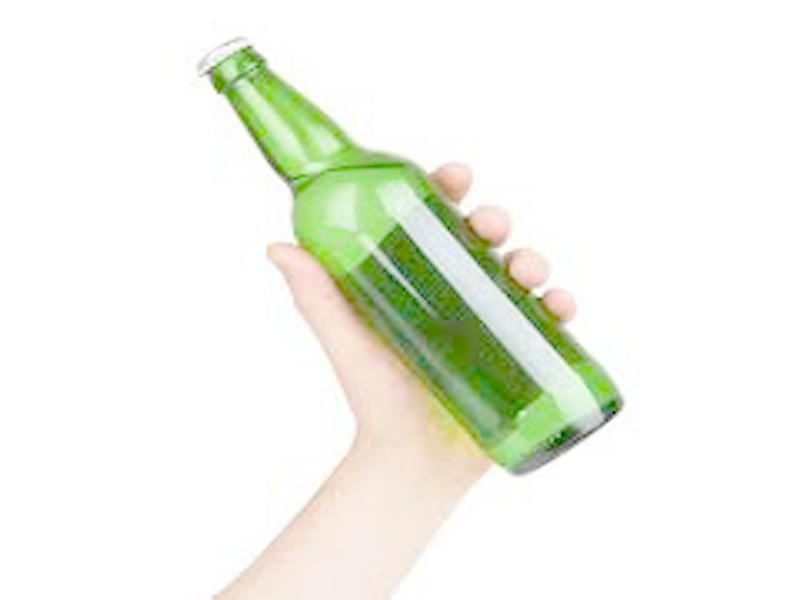Beer: (196, 43, 619, 483)
